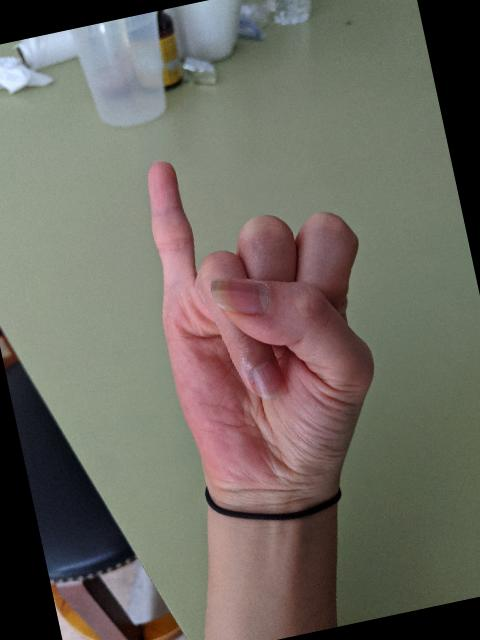I: (120, 118, 414, 516)
